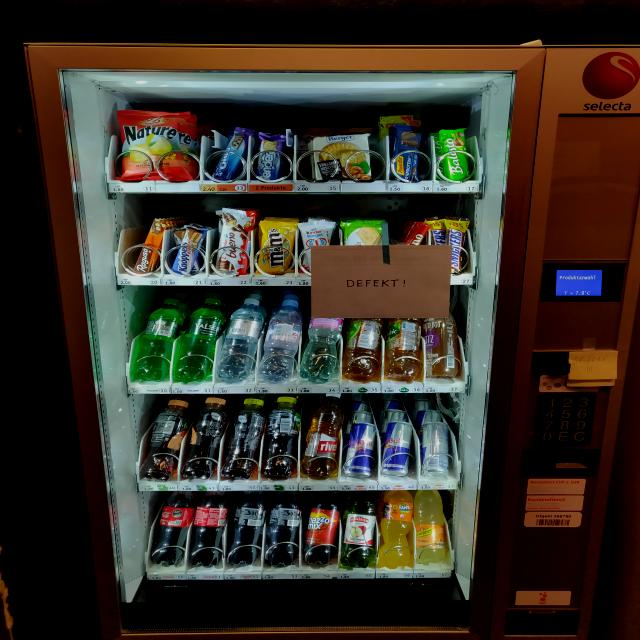balisto_muesli__37g__5000159418546: (440, 124, 475, 180)
berger_nusstoertli____: (313, 128, 372, 180)
bueno___43__4008400320328: (211, 211, 257, 274)
coke__flasche_50__54491472: (149, 492, 195, 566), (187, 492, 223, 568)
coke_zero_flasche_50__5449000131836: (227, 492, 265, 566), (266, 492, 301, 569)
evian___50__3068320353500: (259, 296, 301, 381)
fanta___50__40822938: (376, 490, 416, 568)
fuse_lemon__50__5449000235947: (224, 394, 266, 480), (266, 395, 302, 479)
fuse_peach__50__5449000236623: (141, 396, 184, 482), (184, 395, 223, 480)
knoppers_riegel____4035800488808: (164, 224, 204, 278)
mezzomix___50__54490840: (306, 492, 340, 568)
milka_tender____: (209, 128, 254, 182), (252, 133, 284, 180)
mnms_gelb__45__40111445: (254, 220, 297, 276)
powerbar_proteinplusschoko__55__4029679520028: (388, 123, 427, 184)
ragusa___50__76401121: (132, 219, 168, 275)
ramseier_jusdepomme__50__7610057001078: (341, 490, 375, 568)
redbull___33__90162909: (380, 421, 415, 474), (344, 421, 375, 478), (421, 420, 452, 474)
rivella_rot__50__7610097111072: (301, 394, 343, 482)
schweppes_citrus__50__: (415, 488, 449, 567)
valser_classic__50__76404160: (175, 296, 224, 382), (130, 297, 176, 383)
valser_still__50__7610335002575: (220, 300, 264, 381)
zweifel_salz__90__7610095005007: (117, 110, 196, 182)
